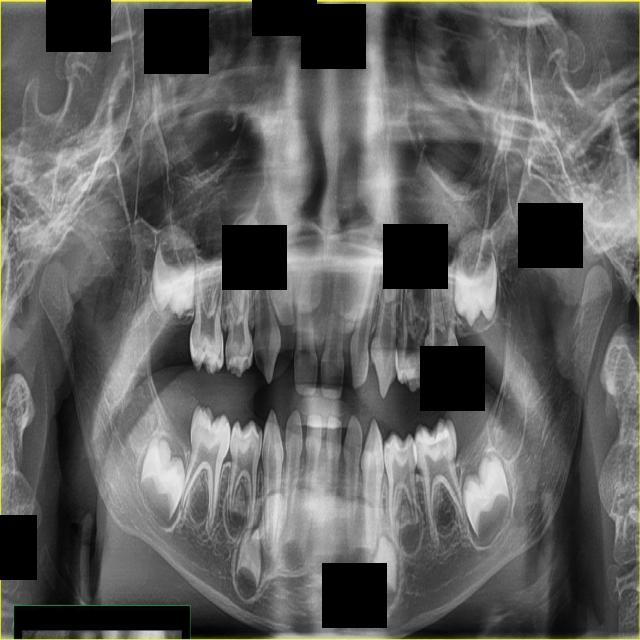Sterngold Implant: (408, 349, 430, 387), (418, 342, 444, 369), (429, 437, 453, 455), (225, 347, 233, 365), (396, 449, 408, 461), (217, 347, 223, 363), (201, 343, 206, 355)
